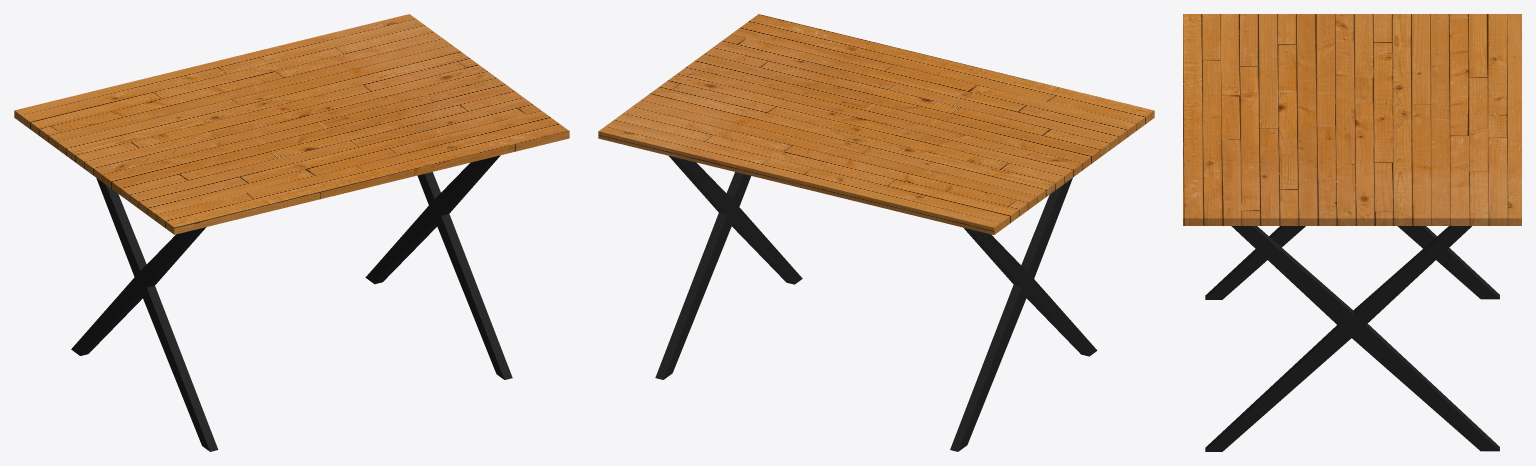
File: Table.dae
The picture shows the model from 3 angles, left to right: view 1: azimuth 30°, elevation 25°; view 2: azimuth 150°, elevation 25°; view 3: azimuth 270°, elevation 25°; orthographic projection. The views are drawn at different scales.
Visible parts, largest first — view 1: Table, Legs; view 2: Table, Legs; view 3: Table, Legs.
Boxes of the visible parts, x1=… form: Table: x1=14, y1=14, x2=569, y2=234; Legs: x1=71, y1=155, x2=512, y2=451; Table: x1=598, y1=14, x2=1154, y2=234; Legs: x1=655, y1=156, x2=1097, y2=451; Table: x1=1183, y1=14, x2=1521, y2=225; Legs: x1=1205, y1=226, x2=1499, y2=451.
Size of the model in its own units: 2 by 1.4 by 1.18.
2 materials, 1 textured.
